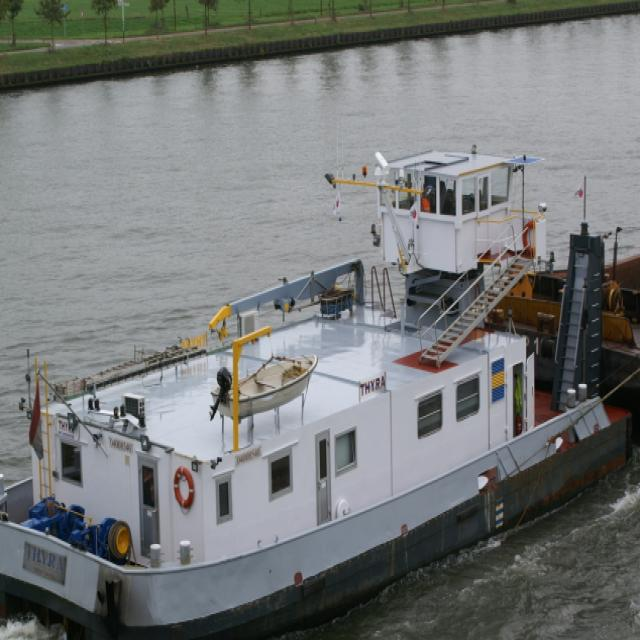tugboat: (1, 133, 639, 640)
